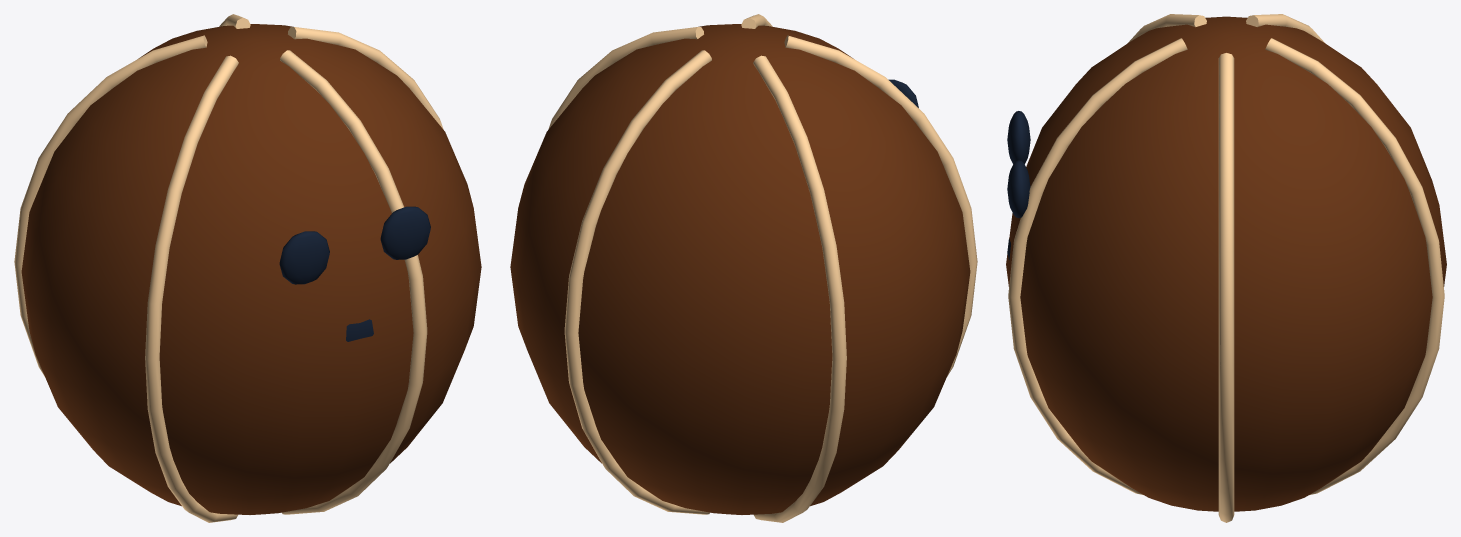
Rendered from coconut.glb.
The picture shows the model from 3 angles, left to right: view 1: azimuth 30°, elevation 25°; view 2: azimuth 150°, elevation 25°; view 3: azimuth 270°, elevation 25°; orthographic projection.
Visible parts, largest first — view 1: coconut; view 2: coconut; view 3: coconut.
Part boxes in pixels (x1,y1,x2,y2): coconut: [14, 14, 481, 522]; coconut: [510, 14, 977, 522]; coconut: [1006, 14, 1446, 522].
Bounding box in the file's own units: 0.9279 × 1 × 0.8597.
Materials: 1 (1 with a texture image).
